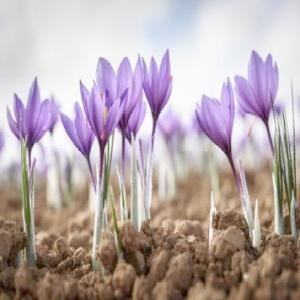Saffron: (96, 52, 143, 140), (234, 48, 280, 127), (10, 76, 55, 154), (77, 79, 126, 147), (196, 77, 236, 158), (140, 49, 173, 124), (62, 102, 99, 162)
